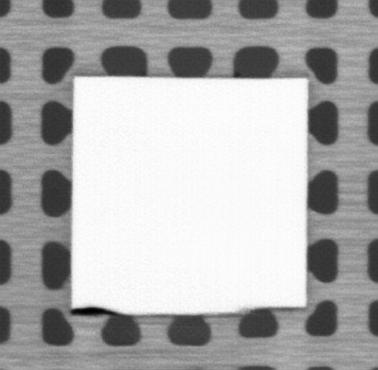DIE_BROKEN: (70, 305, 120, 316)
